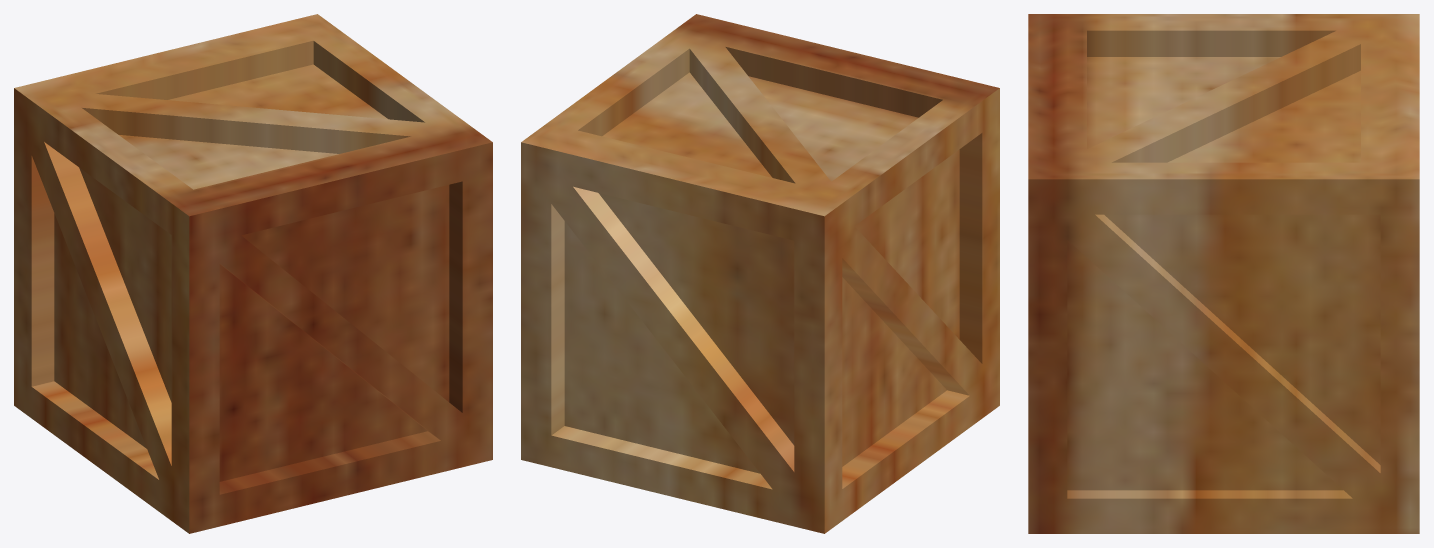
Rendered from Crate.fbx.
3 renders of one model, left to right at view 1: azimuth 30°, elevation 25°; view 2: azimuth 150°, elevation 25°; view 3: azimuth 270°, elevation 25°, orthographic. The views are drawn at different scales.
Parts seen in each view (by area): view 1: Cube; view 2: Cube; view 3: Cube.
Boxes of the visible parts, x1=… form: Cube: x1=14, y1=14, x2=492, y2=533; Cube: x1=521, y1=14, x2=999, y2=533; Cube: x1=1028, y1=14, x2=1419, y2=533.
Size of the model in its own units: 200 by 200 by 200.
